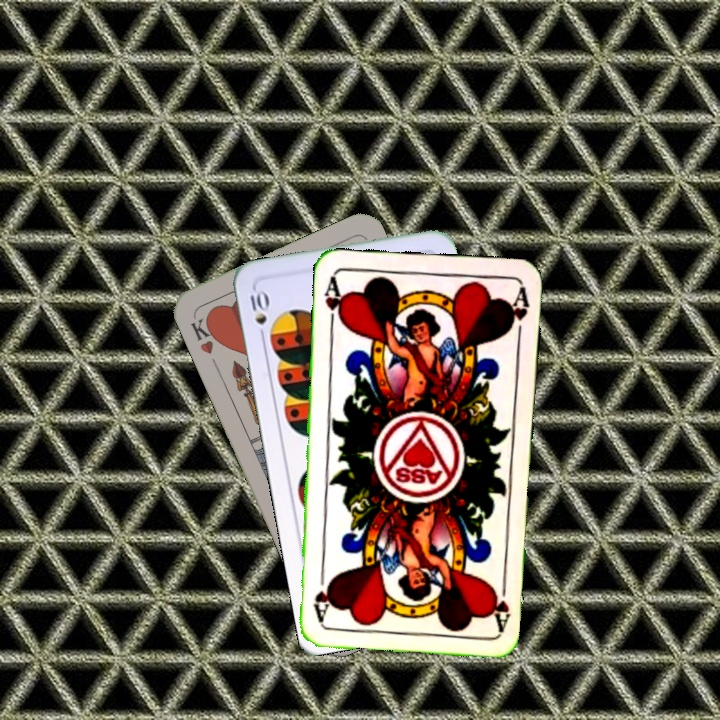HA: (320, 273, 347, 332), (489, 573, 513, 632)
HK: (187, 312, 222, 357)
S10: (246, 286, 271, 344)
